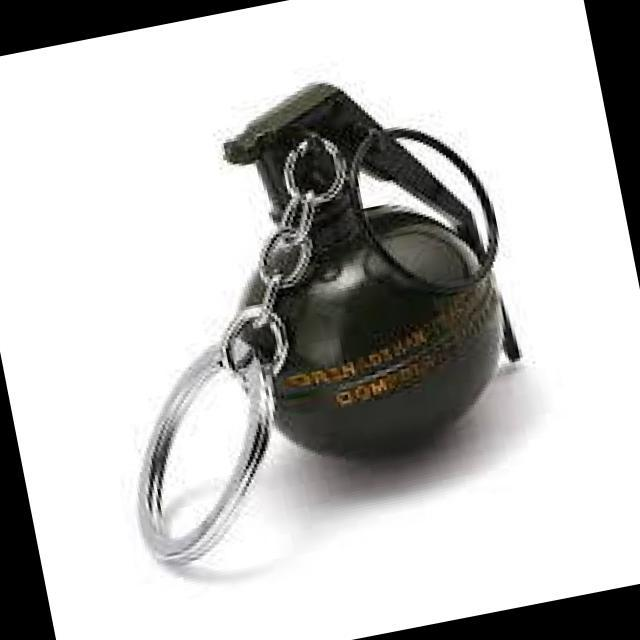grenade: (63, 45, 562, 592)
